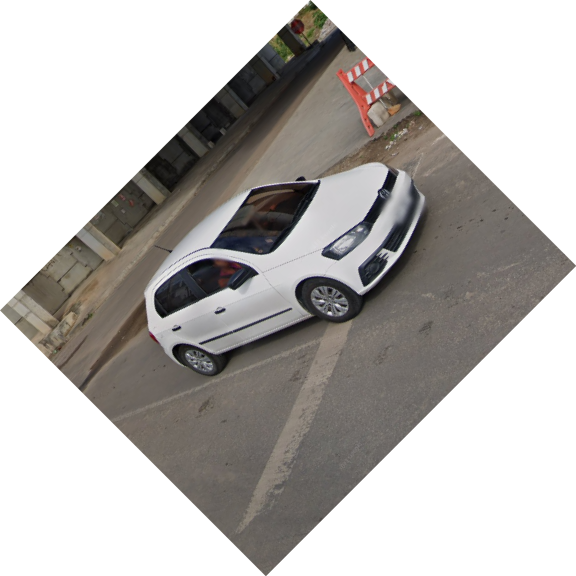car: (141, 159, 427, 376)
